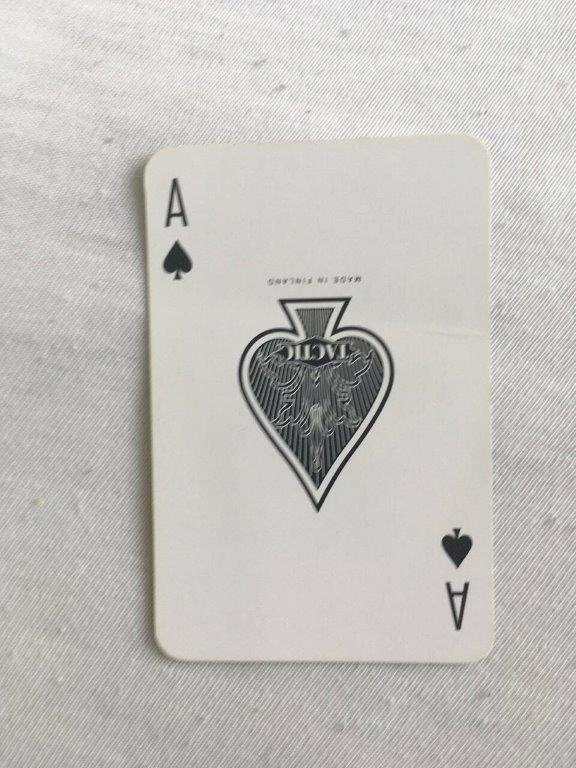AS: (137, 130, 499, 669)
